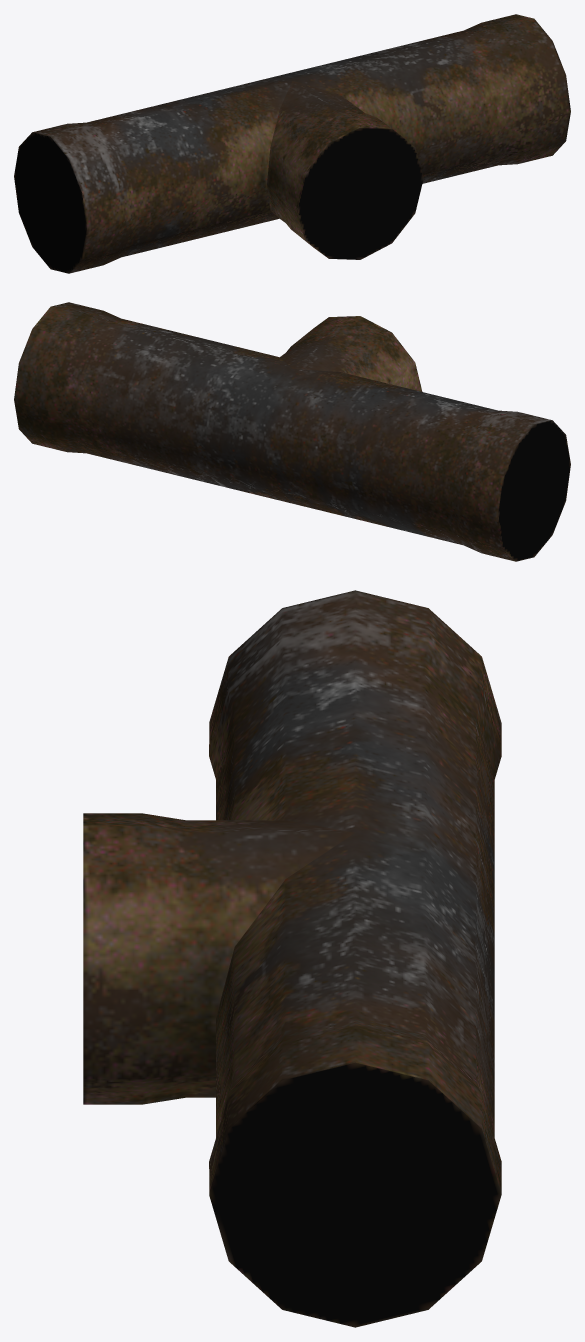
File: NM_BigTube_04.fbx
3 views of the same model, one above another, from view 1: azimuth 30°, elevation 25°; view 2: azimuth 150°, elevation 25°; view 3: azimuth 270°, elevation 25° (orthographic). The views are drawn at different scales.
Visible parts, largest first — view 1: BigTube_02_low003; view 2: BigTube_02_low003; view 3: BigTube_02_low003.
Boxes of the visible parts, left/top/right/bottom form: BigTube_02_low003: left=14, top=14, right=570, bottom=273; BigTube_02_low003: left=14, top=302, right=570, bottom=561; BigTube_02_low003: left=83, top=590, right=501, bottom=1327.
Size of the model in its own units: 117 by 30.54 by 43.67.
